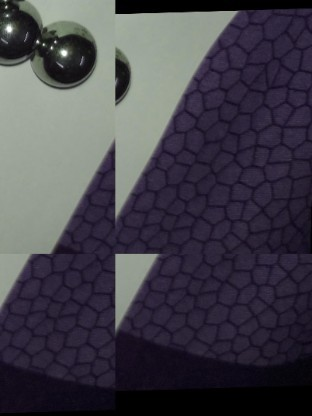ironball: (32, 19, 95, 89), (0, 0, 42, 66)
